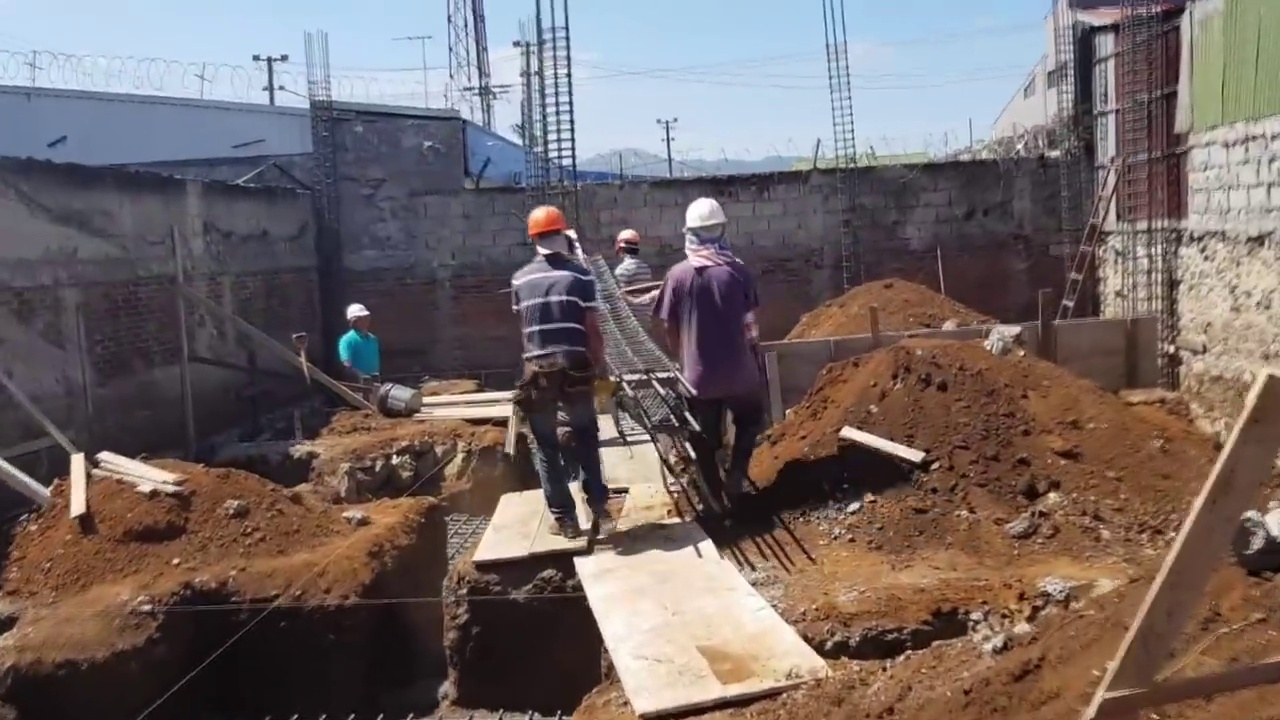helmet: (682, 194, 733, 239), (525, 206, 575, 241), (344, 303, 371, 324), (616, 231, 641, 250)
helmet-on: (685, 197, 730, 262), (526, 205, 575, 260), (615, 231, 647, 261), (344, 303, 372, 334)
person: (655, 194, 775, 531), (509, 210, 621, 558), (610, 232, 659, 337), (330, 305, 379, 380)
